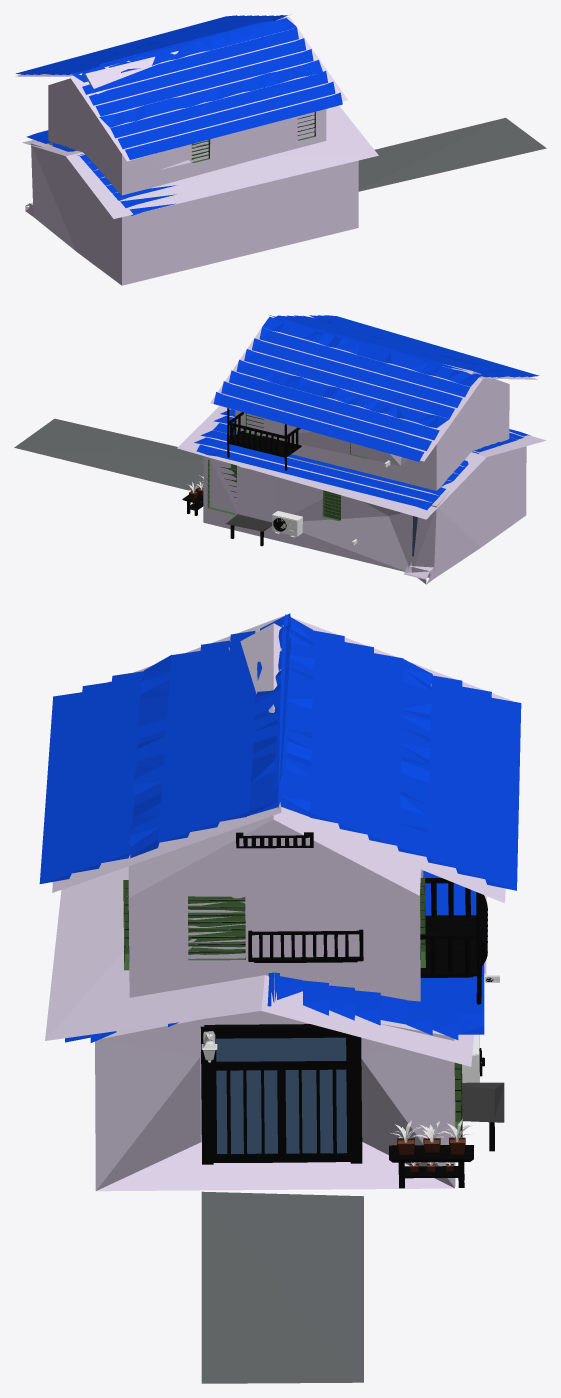
The model's file is jhouse.glb.
3 views of the same model, one above another, from view 1: azimuth 30°, elevation 25°; view 2: azimuth 150°, elevation 25°; view 3: azimuth 270°, elevation 25° (orthographic). The views are drawn at different scales.
Visible parts, largest first — view 1: Base floor, Roof bottom, Entrance Ramp, Window Slider1; view 2: Base floor, Roof bottom, Entrance Ramp, Main Gate, Window Slider1, Air_conditioner 1, Plane.001; view 3: Base floor, Roof bottom, Entrance Ramp, Main Gate, Gate glass, Window Slider1, Plane.001.
Boxes of the visible parts, x1,y1,x2,y2 form: Base floor: (15, 17, 378, 285); Roof bottom: (16, 15, 342, 215); Entrance Ramp: (358, 117, 546, 191); Window Slider1: (191, 111, 315, 162); Base floor: (177, 317, 546, 584); Roof bottom: (194, 314, 539, 510); Entrance Ramp: (14, 418, 203, 490); Main Gate: (182, 408, 301, 546); Window Slider1: (207, 413, 367, 521); Air_conditioner 1: (272, 460, 390, 545); Plane.001: (226, 514, 272, 531); Base floor: (45, 615, 512, 1191); Roof bottom: (39, 613, 521, 1042); Entrance Ramp: (201, 1191, 363, 1383); Main Gate: (200, 832, 494, 1188); Gate glass: (216, 1037, 347, 1153); Window Slider1: (123, 878, 462, 1137); Plane.001: (462, 1082, 504, 1122).
Bounding box in the file's own units: 4.27 × 1.62 × 1.94.
